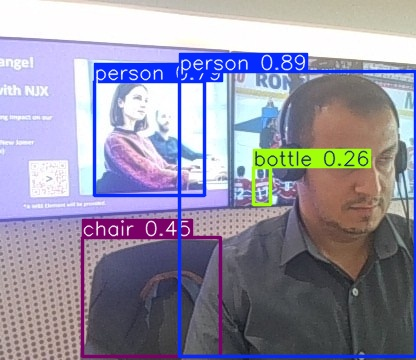tv: (1, 36, 229, 220), (233, 51, 416, 206)
